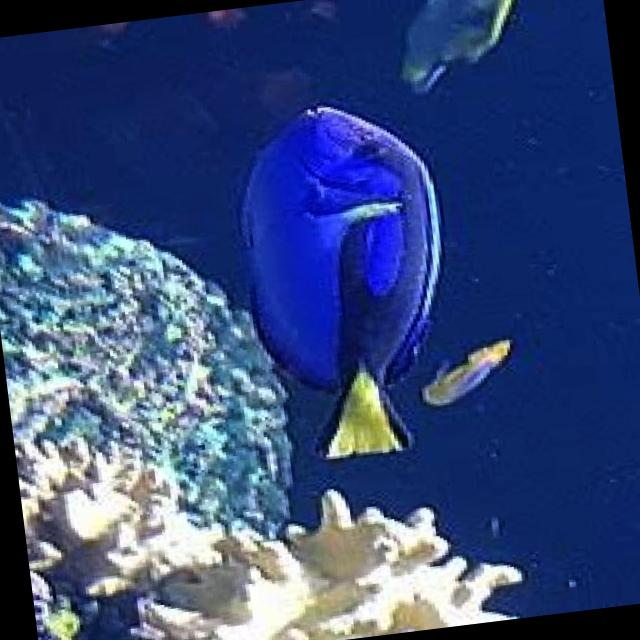BlueTang: (226, 94, 464, 469)
